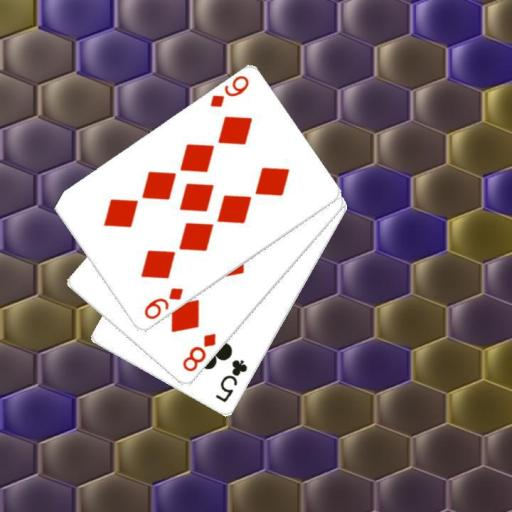5C: (212, 356, 250, 405)
8D: (179, 330, 218, 374)
9D: (206, 73, 251, 110), (141, 285, 185, 322)
